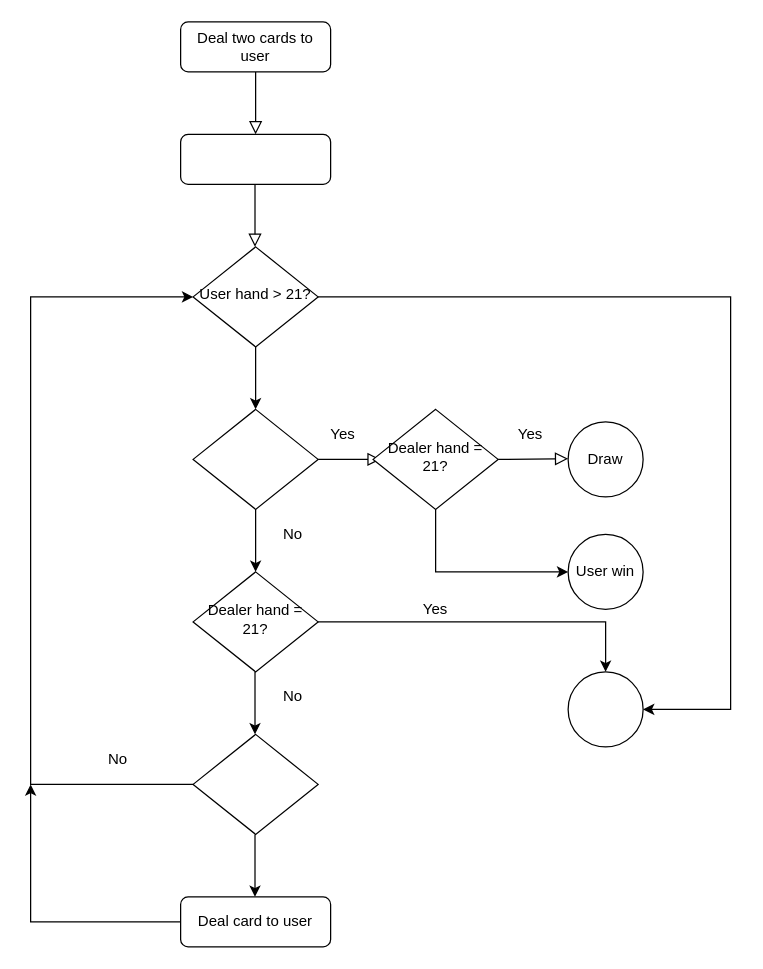
The diagram is 763 pixels wide and 969 high, and some of its shapes have lost their labels. The shapes that lost their labels are listed below. From the top down, each one's box as (x1, y1, x2, y2) in pixels, then its label:
(179, 133, 331, 184): Deal two cards to dealer
(192, 408, 318, 509): User hand = 21?
(567, 671, 643, 747): User lose
(192, 733, 318, 834): User hit?
